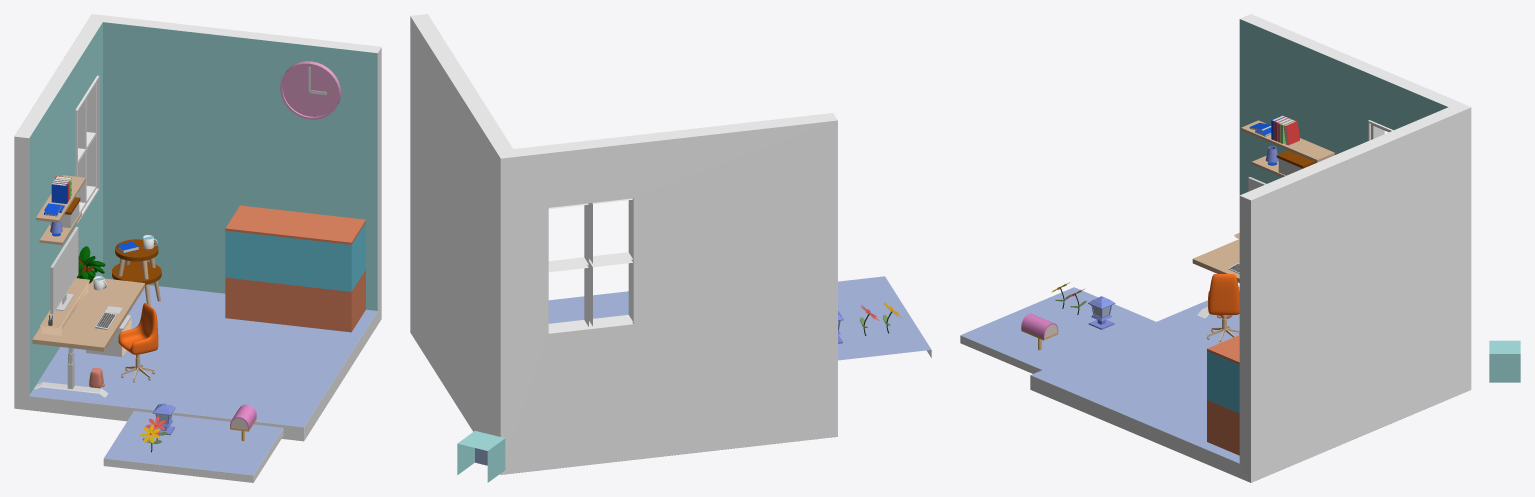
Rendered from FinalVersion3.glb.
3 renders of one model, left to right at view 1: azimuth 30°, elevation 25°; view 2: azimuth 150°, elevation 25°; view 3: azimuth 270°, elevation 25°, orthographic. The views are drawn at different scales.
Parts seen in each view (by area): view 1: Body, Aquarium, Mini Floor, Desks, Clock, Table stuff, Shelves, Computer, Chair, Floor items, Mailbox, Lamp; view 2: Body, Mini Floor, Cube; view 3: Body, Mini Floor, Aquarium, Shelves, Cube, Chair, Desks, Mailbox, Lamp.
Part boxes in pixels (x1,y1,x2,y2): Body: [14, 14, 381, 441]; Aquarium: [225, 205, 365, 332]; Mini Floor: [103, 411, 283, 482]; Desks: [32, 239, 161, 397]; Clock: [280, 61, 341, 119]; Table stuff: [40, 235, 157, 335]; Shelves: [36, 175, 85, 244]; Computer: [50, 227, 78, 314]; Chair: [118, 303, 158, 354]; Floor items: [86, 315, 155, 388]; Mailbox: [230, 404, 256, 441]; Lamp: [152, 403, 175, 435]; Body: [410, 14, 837, 474]; Mini Floor: [838, 276, 931, 360]; Cube: [457, 431, 505, 482]; Body: [1030, 14, 1471, 482]; Mini Floor: [960, 287, 1155, 373]; Aquarium: [1207, 335, 1239, 455]; Shelves: [1241, 115, 1334, 177]; Cube: [1489, 340, 1520, 382]; Chair: [1208, 274, 1239, 314]; Desks: [1192, 239, 1239, 318]; Mailbox: [1021, 313, 1058, 350]; Lamp: [1088, 296, 1115, 329].
Bounding box in the file's own units: 28.04 × 19.83 × 35.64.
